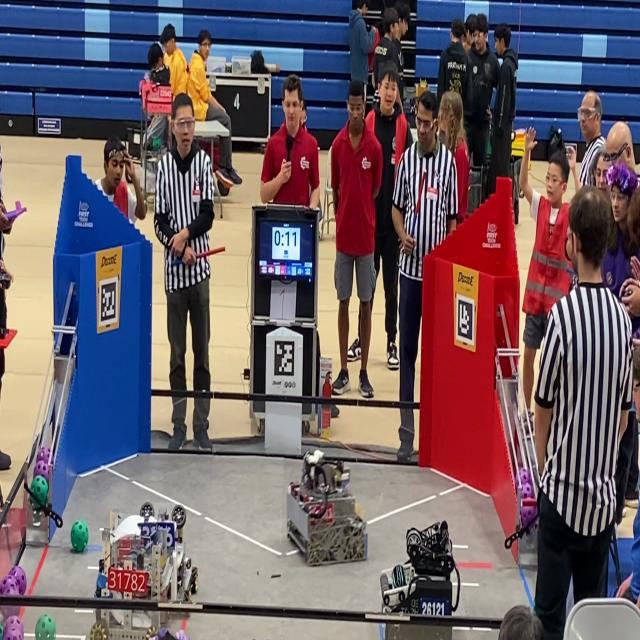artifact_green: (30, 475, 49, 510), (71, 520, 88, 552), (35, 614, 56, 639), (4, 617, 24, 639), (152, 138, 162, 151), (0, 624, 3, 639)
artifact_purple: (9, 566, 26, 595), (4, 616, 23, 637), (0, 575, 18, 595), (34, 461, 49, 482), (521, 507, 537, 526), (3, 625, 23, 639), (3, 579, 19, 596), (519, 469, 532, 484), (37, 448, 50, 463), (522, 483, 533, 498)
